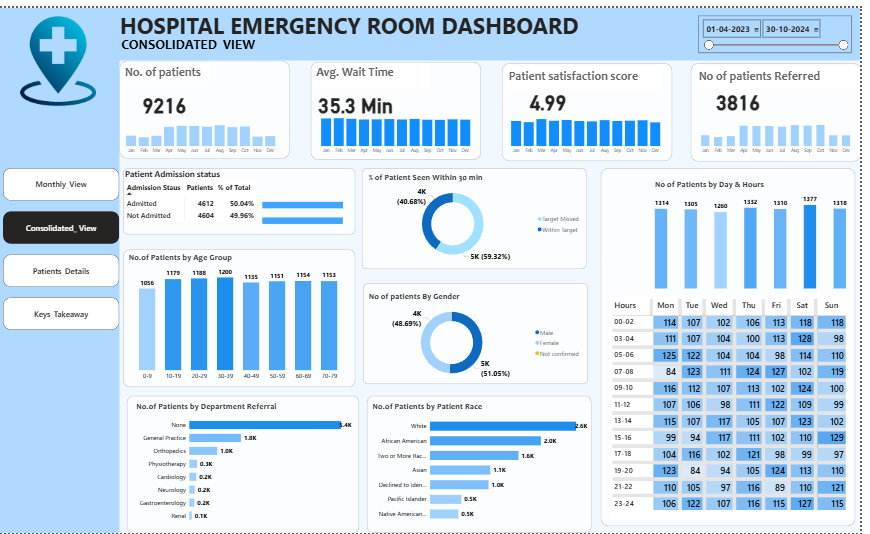

This screenshot's page, from the dashboard's own definition file:
{"tool":"powerbi","page":{"name":"Consolidated_ View","canvas":[2300,1400],"ordinal":1},"visuals":[{"type":"shape","box":[321.7,0,1979,140.3],"z":0},{"type":"shape","box":[0,0,324.1,1400.5],"z":1000},{"type":"textbox","box":[319.3,0,1262.6,89.5],"z":2000},{"type":"textbox","box":[322.5,70,430,57.5],"z":3000},{"type":"shape","box":[322,140,455,262],"z":4000},{"type":"card","fields":{"Values":["Measure.No.of Patients"]},"box":[331.7,200,220,110],"z":5000},{"type":"slicer","fields":{"Values":["Calendar_Table.Date"]},"box":[1867.5,20,410,100],"z":6000},{"type":"textbox","box":[334.8,147.8,230.4,52.2],"z":7000},{"type":"columnChart","fields":{"Category":["Calendar_Table.Month_Name"],"Y":["Measure.No.of Patients"]},"box":[323.3,273.3,435,125],"z":8000},{"type":"shape","box":[832.4,142,455,262],"z":9000},{"type":"shape","box":[1342.9,148,455,262],"z":10000},{"type":"shape","box":[1845,146.7,455,263.3],"z":11000},{"type":"textbox","box":[843.3,146.7,306.7,66.7],"z":12000},{"type":"columnChart","fields":{"Category":["Calendar_Table.Month_Name"],"Y":["Avg(Hospital ER_Data.Patient)"]},"box":[843.3,271.7,435,125],"z":13000},{"type":"card","fields":{"Values":["Measure.Avg.wait Time"]},"box":[843.3,200,220,110],"z":14000},{"type":"textbox","box":[1356.7,156.7,411.7,66.7],"z":15000},{"type":"card","fields":{"Values":["Measure.Avg.Satisfaction score"]},"box":[1356.7,190,220,110],"z":16000},{"type":"columnChart","fields":{"Category":["Calendar_Table.Month_Name"],"Y":["Measure.Avg.Satisfaction score"]},"box":[1348.3,273.3,435,125],"z":17000},{"type":"textbox","box":[1862.5,157.5,437.5,57.5],"z":18000},{"type":"card","fields":{"Values":["Measure.No. of patients Referred"]},"box":[1862.5,190,220,110],"z":19000},{"type":"columnChart","fields":{"Y":["Measure.No. of patients Referred"],"Category":["Calendar_Table.Month_Name"]},"box":[1855,272.5,435,125],"z":20000},{"type":"shape","box":[332,426,620,178],"z":21000},{"type":"pivotTable","title":"Patient Admission status","fields":{"Rows":["Hospital ER_Data.Admission Staus"],"Values":["Measure.No.of Patients1","Measure.No.of Patients"]},"box":[334,426,614,178],"z":22000},{"type":"barChart","fields":{"Category":["Hospital ER_Data.Admission Staus"],"Y":["Measure.No.of Patients"]},"box":[700,482,290,122],"z":23000},{"type":"shape","box":[334,642,620,368],"z":24000},{"type":"clusteredColumnChart","fields":{"Category":["Hospital ER_Data.Age Group"],"Y":["Measure.No.of Patients"]},"box":[344,650,596,352],"z":25000},{"type":"shape","box":[344,1032,620,368],"z":26000},{"type":"clusteredBarChart","fields":{"Category":["Hospital ER_Data.Department Referral"],"Y":["Measure.No.of Patients"]},"box":[362.5,1045,585,337.5],"z":27000},{"type":"shape","box":[970,425,600,270],"z":28000},{"type":"donutChart","title":"% of Patient Seen Within 30 min","fields":{"Category":["Hospital ER_Data.Patient Wait Time"],"Y":["Measure.No.of Patients"]},"box":[982.5,435,580,250],"z":29000},{"type":"shape","box":[972.5,732.5,600,270],"z":30000},{"type":"donutChart","title":"No of patients By Gender","fields":{"Y":["Measure.No.of Patients"],"Category":["Hospital ER_Data.Patient Gender"]},"box":[982.5,752.5,580,250],"z":31000},{"type":"shape","box":[983.3,1033.3,600,366.7],"z":32000},{"type":"clusteredBarChart","fields":{"Y":["Measure.No.of Patients"],"Category":["Hospital ER_Data.Patient Race"]},"box":[993.3,1046.7,583.3,336.7],"z":33000},{"type":"shape","box":[1607.5,425,680,955],"z":34000},{"type":"pivotTable","fields":{"Rows":["Hospital ER_Data.Waittime Interval"],"Values":["Measure.No.of Patients"],"Columns":["Calendar_Table.Day Name"]},"box":[1632.5,770,637.5,595],"z":35000},{"type":"columnChart","title":"No of Patients by Day & Hours","fields":{"Category":["Calendar_Table.Day Name"],"Y":["Measure.No.of Patients"]},"box":[1747.5,455,522.5,297.5],"z":36000},{"type":"image","box":[10.5,18,300,250],"z":37000},{"type":"pageNavigator","box":[13.3,426.7,310,433.3],"z":38000}]}

Visuals, with their boxes in screenshot pixels (x1, y1, x2, y2), scaled from the page's 2300x1400 canvas onto the 870x534 screenshot:
shape: [left=122, top=0, right=869, bottom=54]
shape: [left=0, top=0, right=123, bottom=533]
textbox: [left=121, top=0, right=598, bottom=34]
textbox: [left=122, top=27, right=285, bottom=49]
shape: [left=122, top=53, right=294, bottom=153]
card - Measure.No.of Patients: [left=125, top=76, right=209, bottom=118]
slicer - Calendar_Table.Date: [left=706, top=8, right=861, bottom=46]
textbox: [left=127, top=56, right=214, bottom=76]
columnChart - Calendar_Table.Month_Name x Measure.No.of Patients: [left=122, top=104, right=287, bottom=152]
shape: [left=315, top=54, right=487, bottom=154]
shape: [left=508, top=56, right=680, bottom=156]
shape: [left=698, top=56, right=869, bottom=156]
textbox: [left=319, top=56, right=435, bottom=81]
columnChart - Calendar_Table.Month_Name x Avg(Hospital ER_Data.Patient): [left=319, top=104, right=484, bottom=151]
card - Measure.Avg.wait Time: [left=319, top=76, right=402, bottom=118]
textbox: [left=513, top=60, right=669, bottom=85]
card - Measure.Avg.Satisfaction score: [left=513, top=72, right=596, bottom=114]
columnChart - Calendar_Table.Month_Name x Measure.Avg.Satisfaction score: [left=510, top=104, right=675, bottom=152]
textbox: [left=705, top=60, right=869, bottom=82]
card - Measure.No. of patients Referred: [left=705, top=72, right=788, bottom=114]
columnChart - Measure.No. of patients Referred x Calendar_Table.Month_Name: [left=702, top=104, right=866, bottom=152]
shape: [left=126, top=162, right=360, bottom=230]
"Patient Admission status" pivotTable: [left=126, top=162, right=359, bottom=230]
barChart - Hospital ER_Data.Admission Staus x Measure.No.of Patients: [left=265, top=184, right=374, bottom=230]
shape: [left=126, top=245, right=361, bottom=385]
clusteredColumnChart - Hospital ER_Data.Age Group x Measure.No.of Patients: [left=130, top=248, right=356, bottom=382]
shape: [left=130, top=394, right=365, bottom=533]
clusteredBarChart - Hospital ER_Data.Department Referral x Measure.No.of Patients: [left=137, top=399, right=358, bottom=527]
shape: [left=367, top=162, right=594, bottom=265]
"% of Patient Seen Within 30 min" donutChart: [left=372, top=166, right=591, bottom=261]
shape: [left=368, top=279, right=595, bottom=382]
"No of patients By Gender" donutChart: [left=372, top=287, right=591, bottom=382]
shape: [left=372, top=394, right=599, bottom=533]
clusteredBarChart - Measure.No.of Patients x Hospital ER_Data.Patient Race: [left=376, top=399, right=596, bottom=528]
shape: [left=608, top=162, right=865, bottom=526]
pivotTable - Hospital ER_Data.Waittime Interval x Measure.No.of Patients: [left=618, top=294, right=859, bottom=521]
"No of Patients by Day & Hours" columnChart: [left=661, top=174, right=859, bottom=287]
image: [left=4, top=7, right=117, bottom=102]
pageNavigator: [left=5, top=163, right=122, bottom=328]
